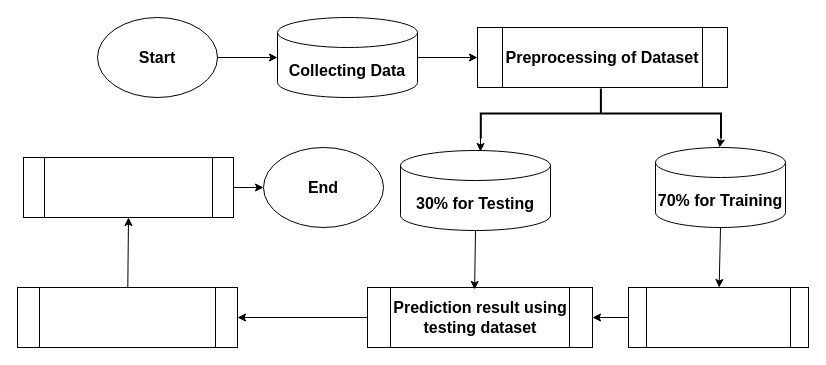
This 826x365 diagram has some shape labels left out. Each missing label, with the centre of its shape:
Fit the training data into SVM,RF,ANN,KNN: (x=718, y=317)
Generating Evaluation Matrices: (x=127, y=317)
Record the result and observation from ANN,SVM,RF,KNN: (x=128, y=187)
